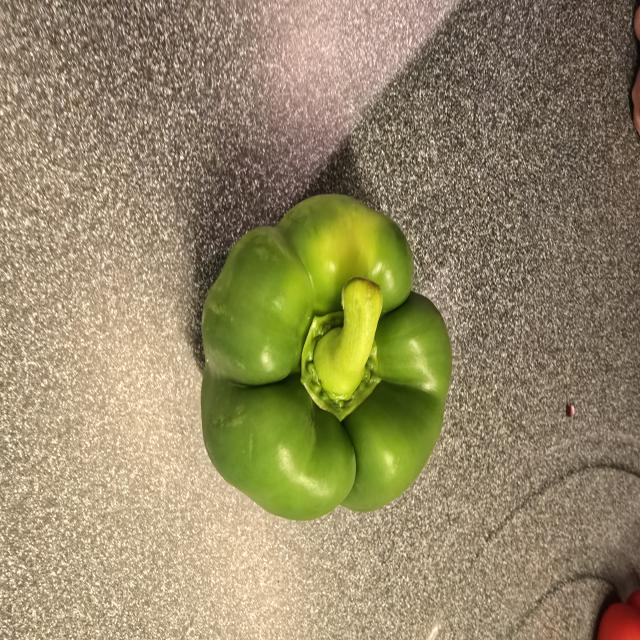Bell Pepper: (194, 185, 462, 531)
